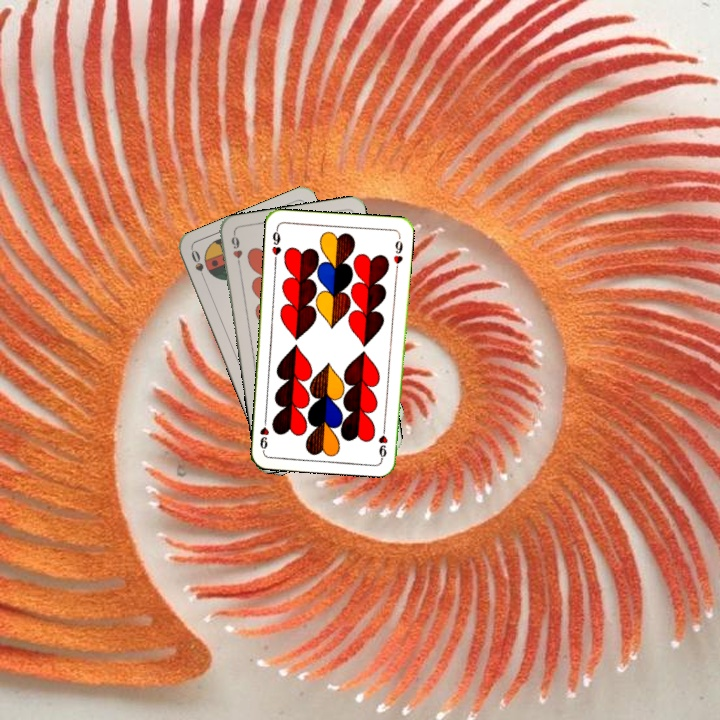H9: (227, 230, 245, 270), (267, 224, 283, 265), (375, 420, 390, 460)
SO: (187, 246, 209, 285)
